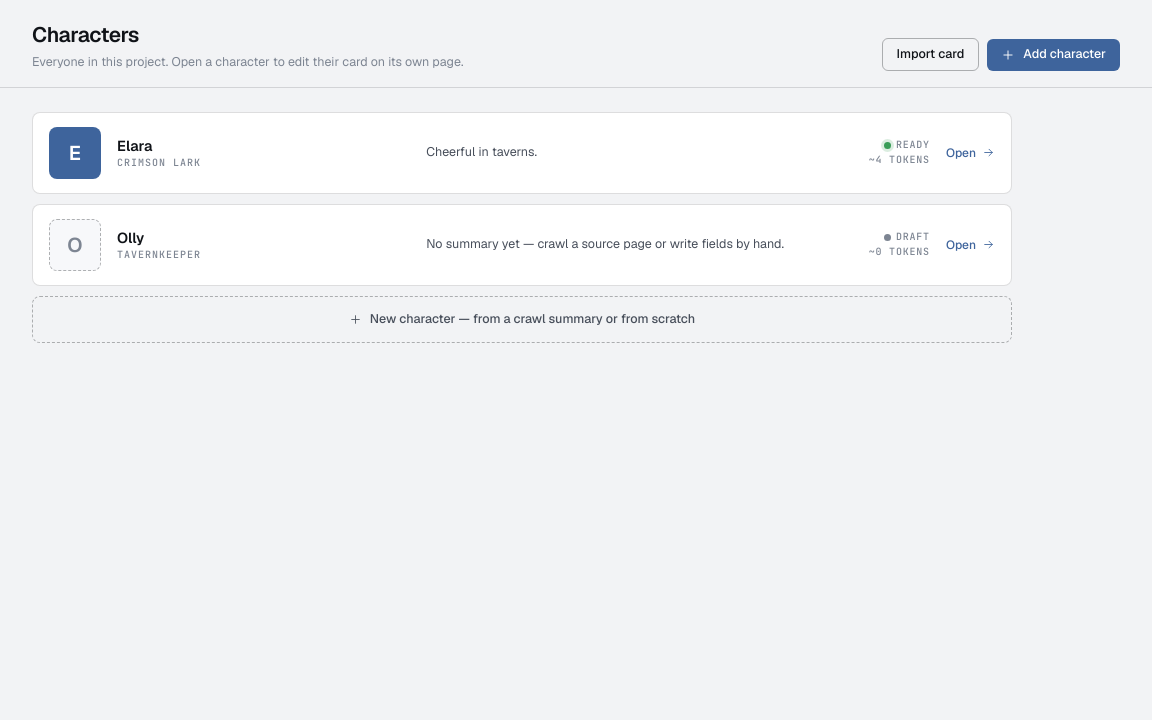
CharactersScreen › shows a toast when import fails
This screenshot has width=1152, height=720.
Check: the text "Elara" is shown, box top-left (117, 136), bottom-right (152, 155)
Click the button "Import card".
click(930, 55)  # box top-left (882, 38), bottom-right (979, 71)
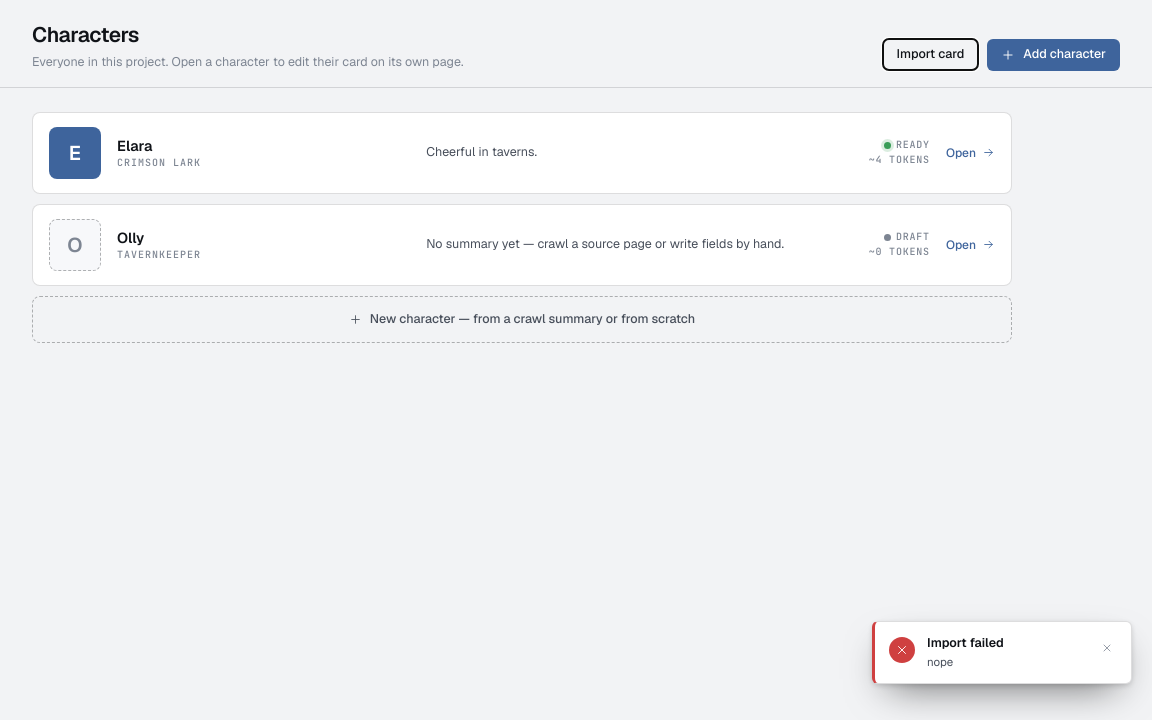
Check: the text "Import failed" is shown, box top-left (927, 634), bottom-right (1004, 651)
